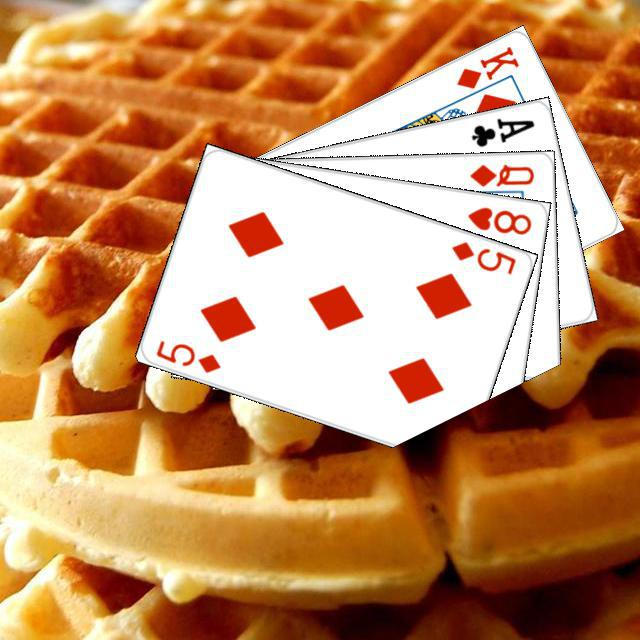5d: (446, 236, 518, 277), (151, 335, 223, 375)
8h: (463, 202, 534, 237)
Ac: (466, 113, 537, 149)
Kd: (451, 41, 521, 91)
Qd: (465, 159, 535, 189)
